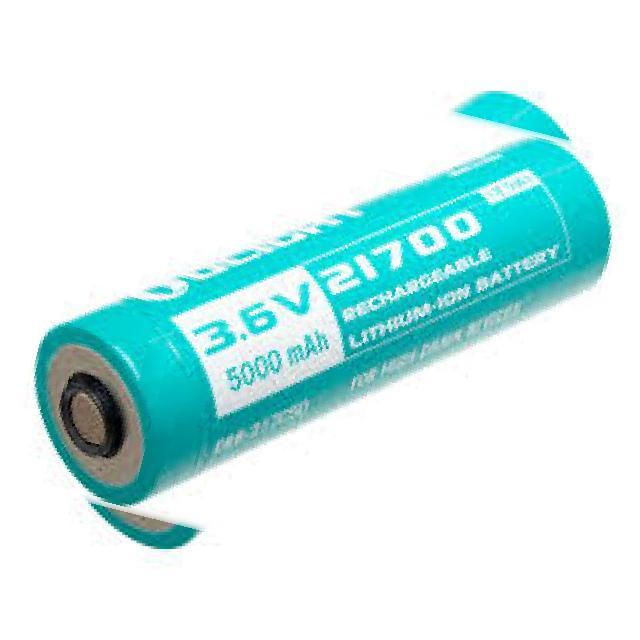Battery: (34, 130, 616, 510)
